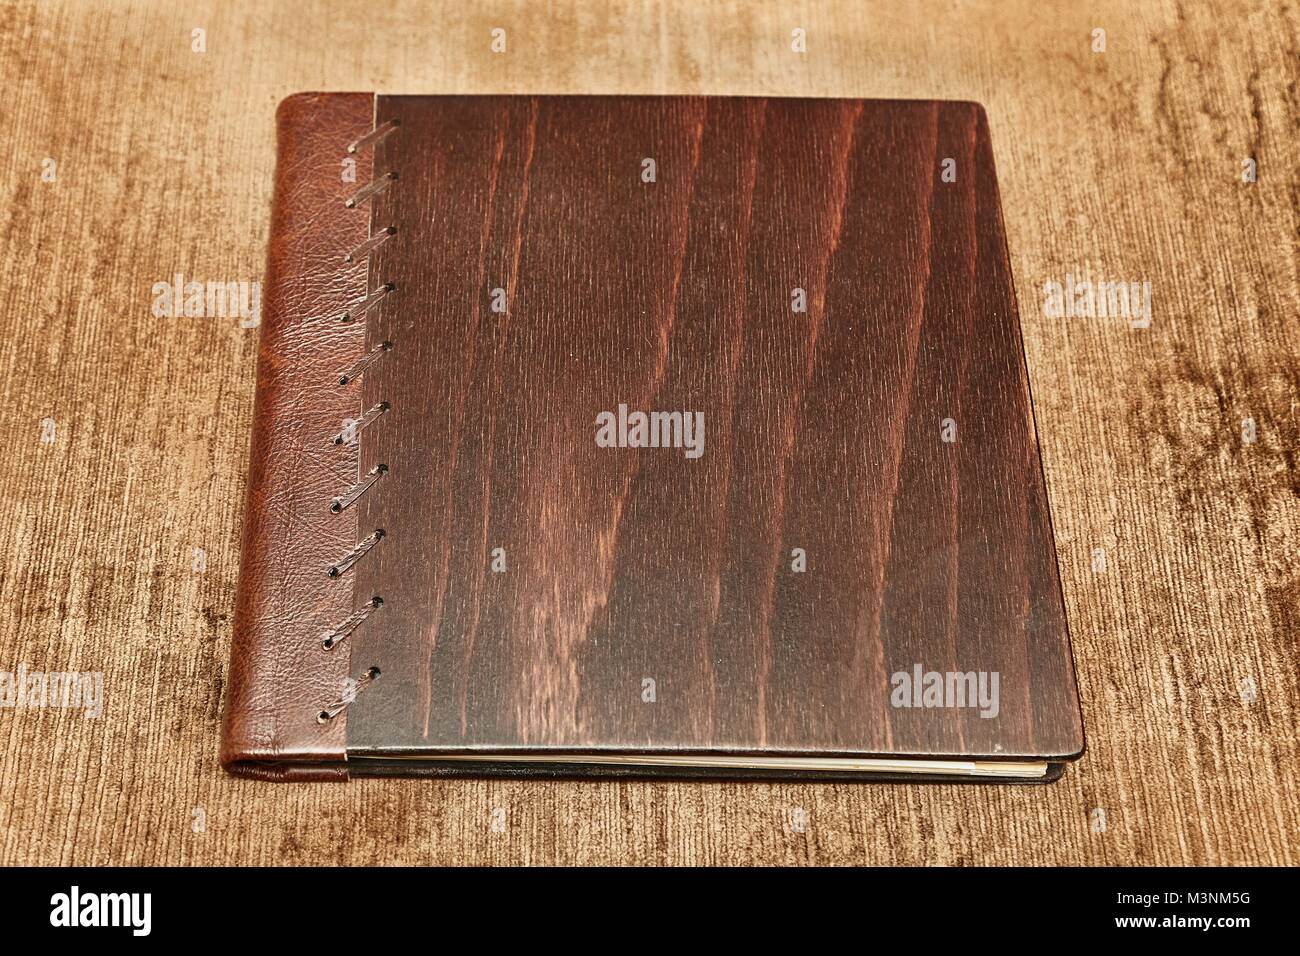book: (218, 67, 1100, 794)
